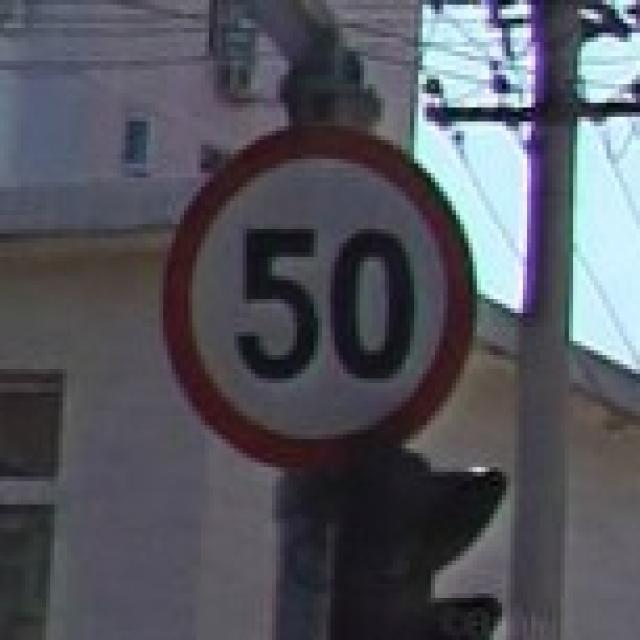Speed Limit -50-: (231, 224, 418, 388)
